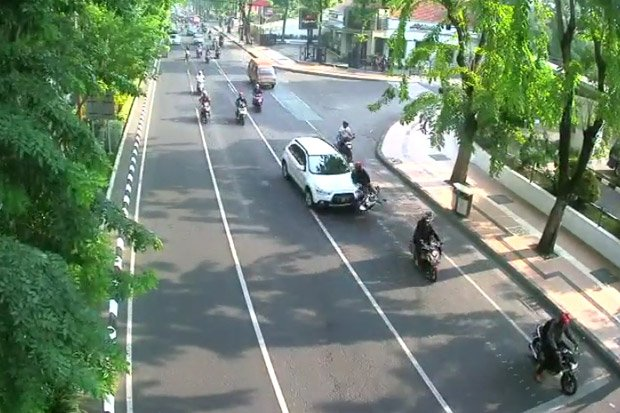mobil: (280, 135, 357, 213)
motor: (525, 331, 582, 396), (408, 240, 442, 282), (233, 102, 249, 126), (339, 137, 353, 159)
